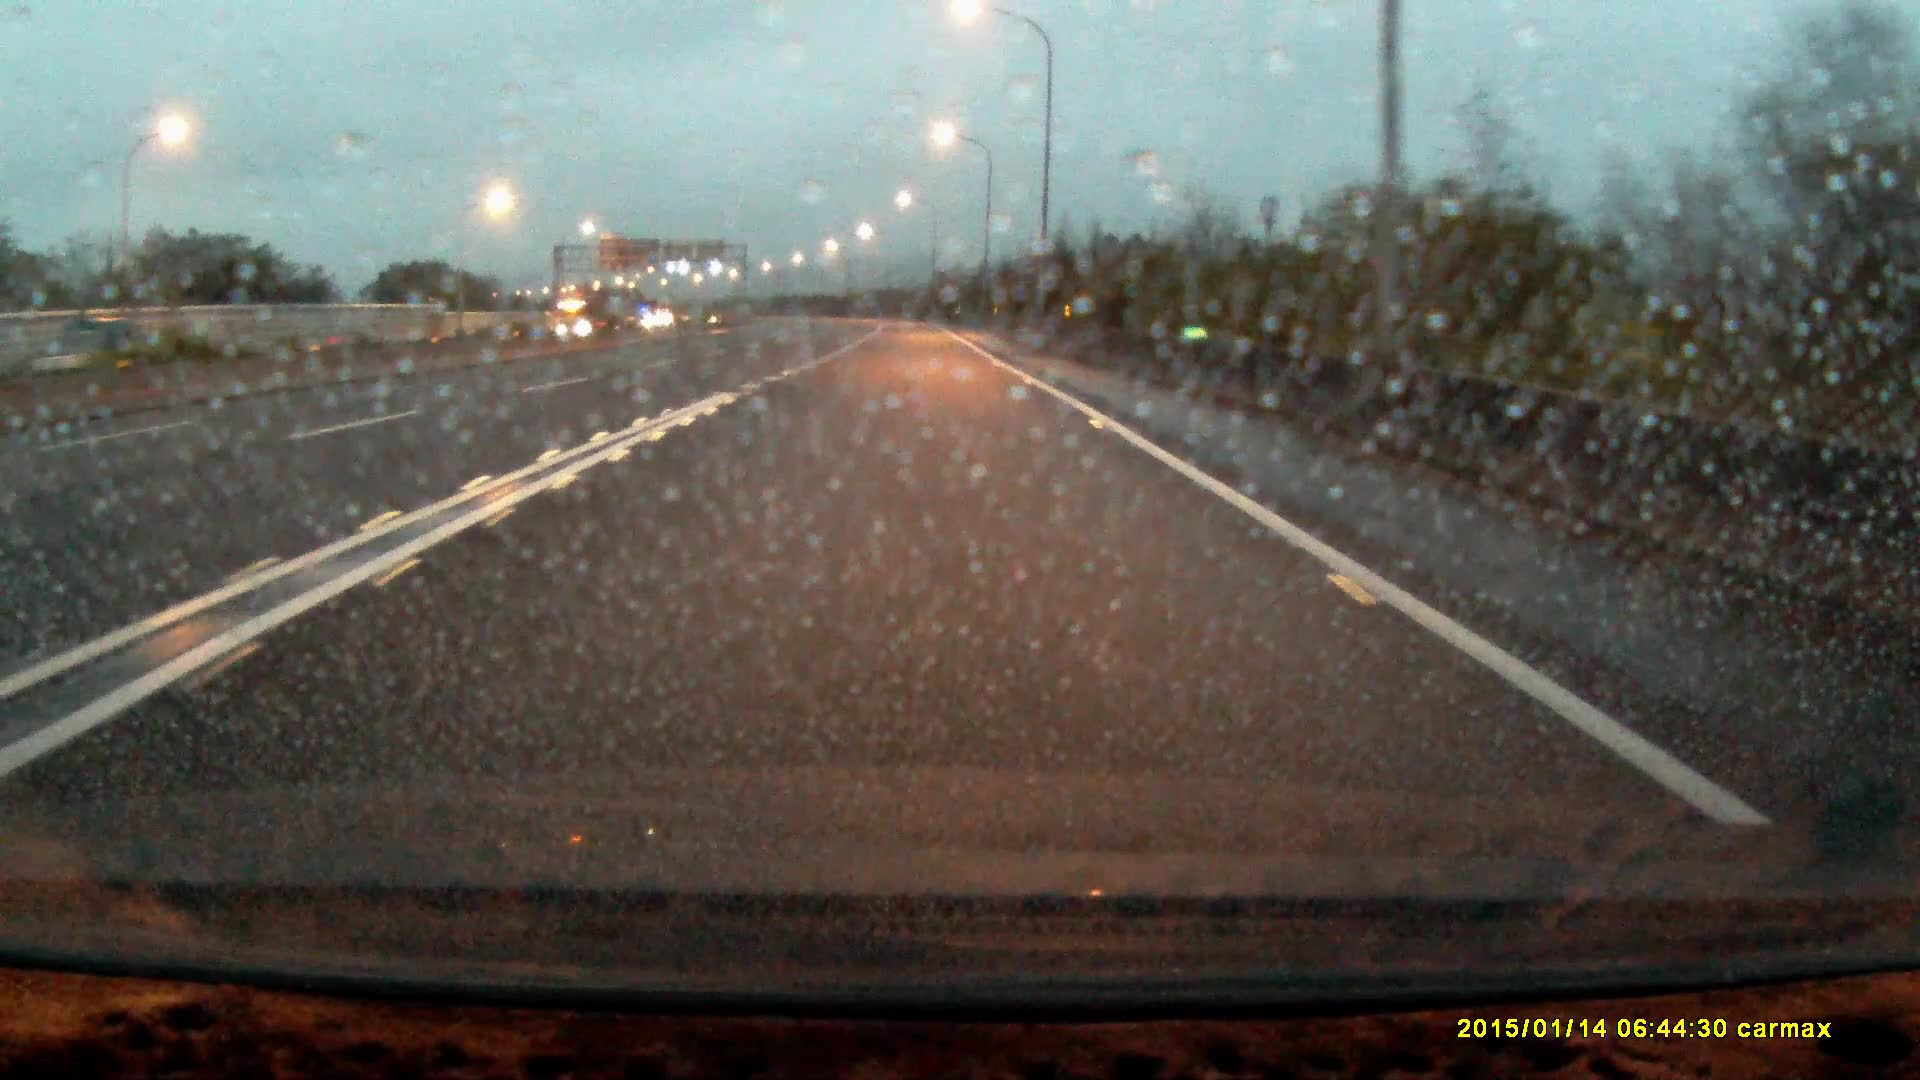vehicle: (553, 295, 608, 345)
